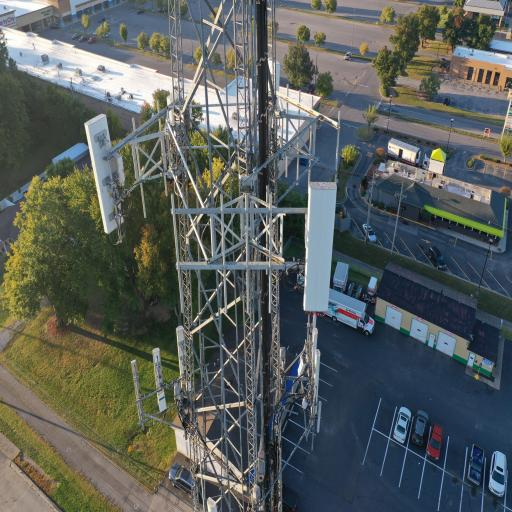supporting_tower: (78, 0, 358, 512)
